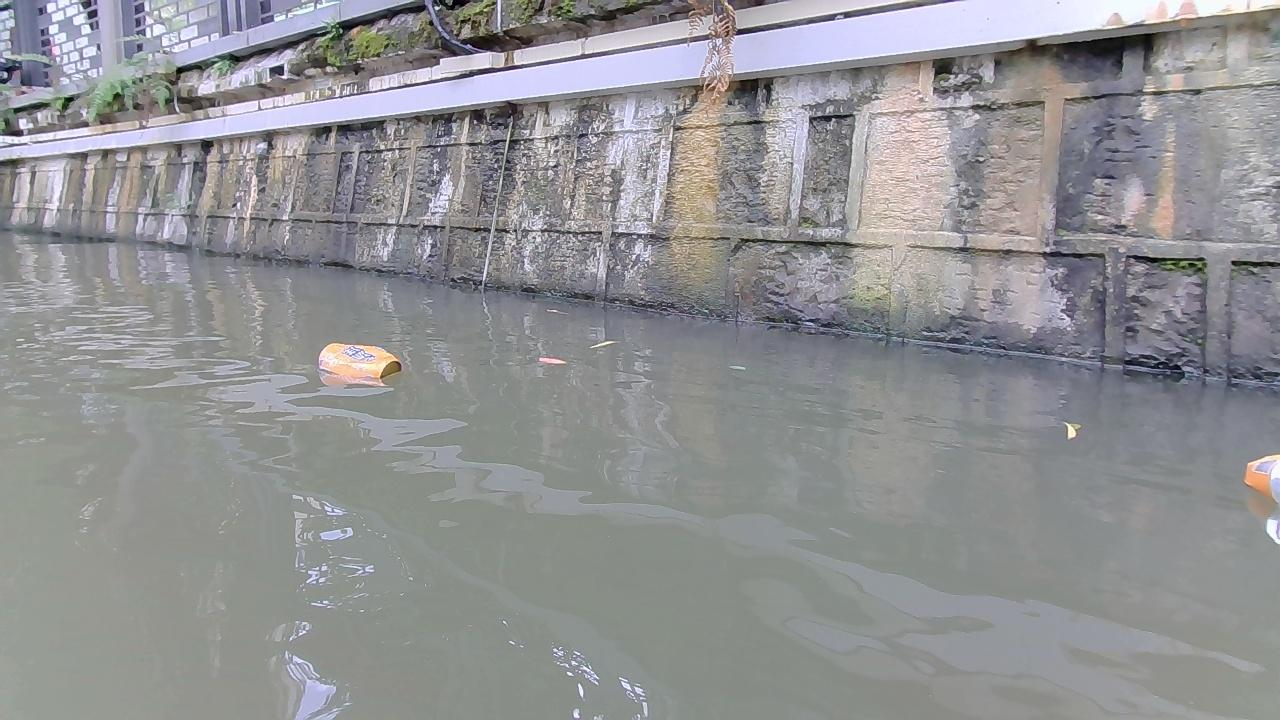bottle: (317, 342, 402, 379), (1243, 452, 1279, 499)
